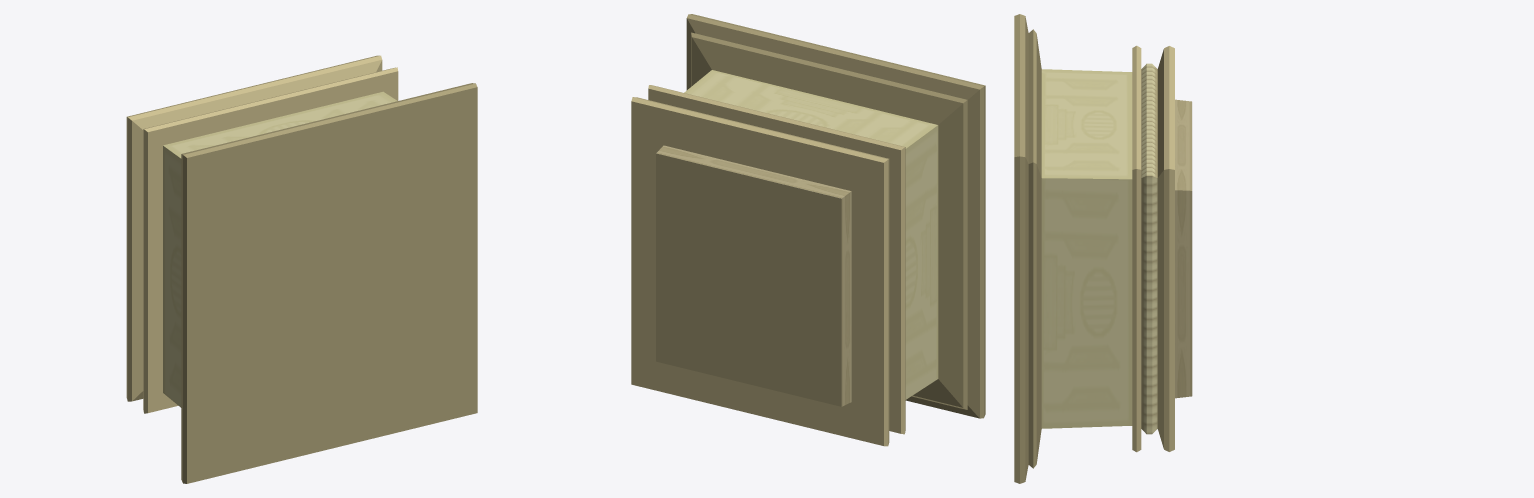
File: Endpunkt.fbx
3 renders of one model, left to right at view 1: azimuth 30°, elevation 25°; view 2: azimuth 150°, elevation 25°; view 3: azimuth 270°, elevation 25°, orthographic.
Visible parts, largest first — view 1: Cylinder; view 2: Cylinder; view 3: Cylinder.
Boxes of the visible parts, x1,y1,x2,y2 form: Cylinder: (126,55,477,483); Cylinder: (631,14,985,446); Cylinder: (1014,14,1192,483).
Size of the model in its own units: 1.39 by 1.49 by 2.08.
1 material, 1 textured.
